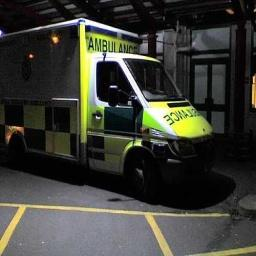Ambulance: (0, 18, 212, 198)
